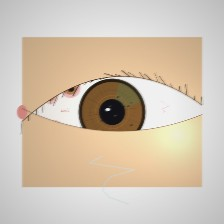foreign_body_visible: (34, 114, 74, 146)
